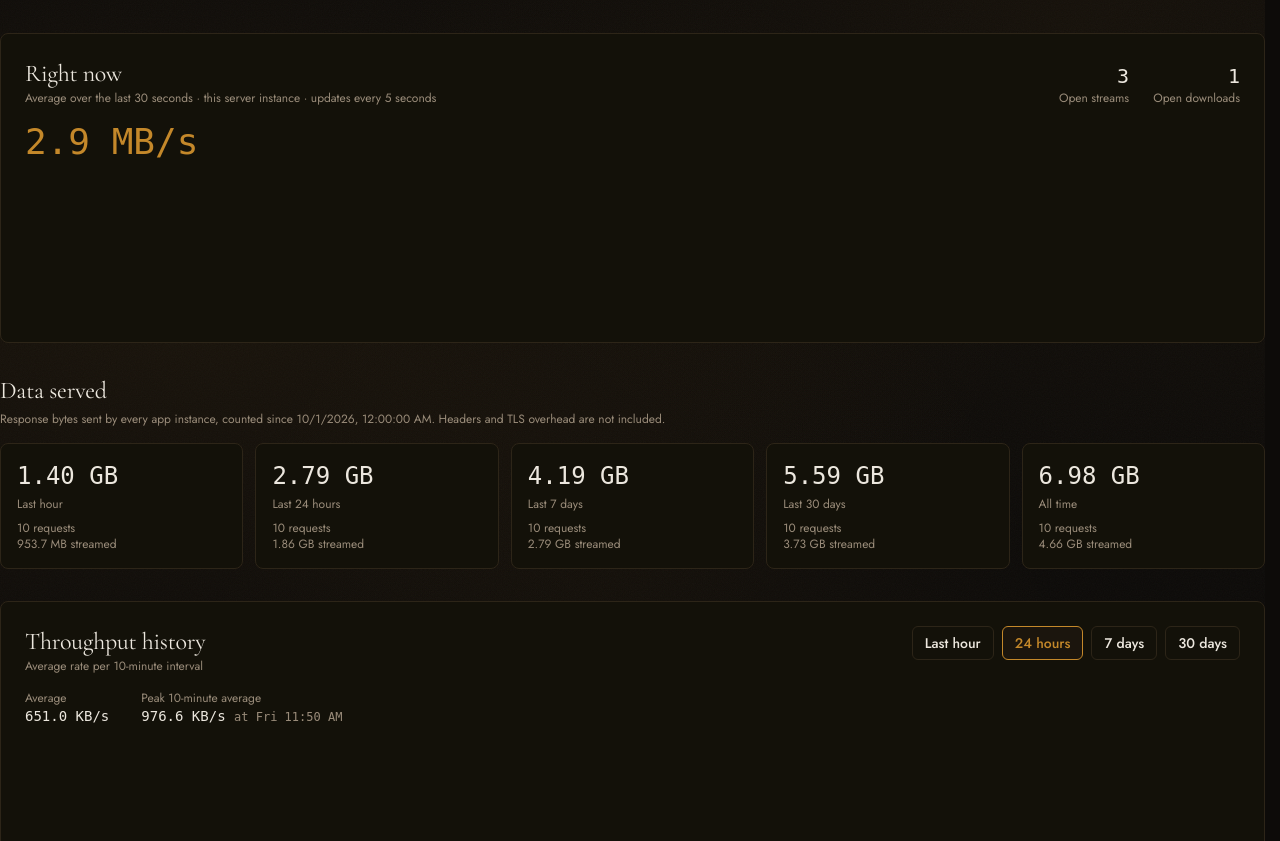
Scenario: shows a failed range instead of loading forever
Expected: the text "Average" is shown, [25,689,66,707]
Click the button "30 days".
click(1203, 643)  # box [1165,626,1240,660]
(page scrolled)
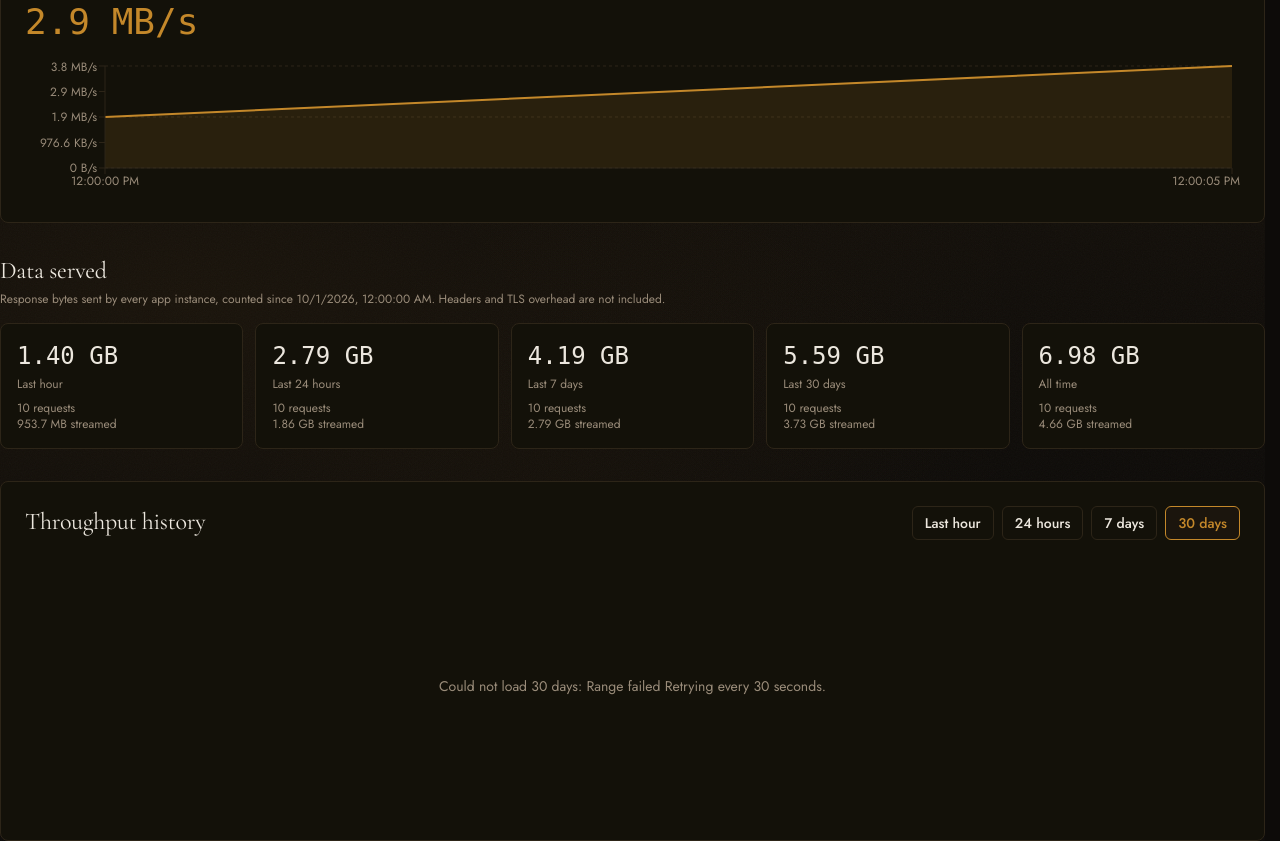
Expected: the text "Could not load 30 days: Range failed Retrying every 30 seconds." is shown, [439,676,826,696]
